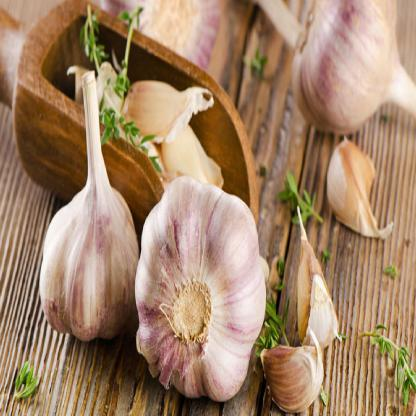garlic: (129, 190, 265, 405), (38, 147, 142, 345), (280, 0, 416, 142), (328, 115, 388, 248), (160, 112, 235, 196), (258, 336, 332, 415), (297, 228, 342, 349), (128, 82, 202, 146)
